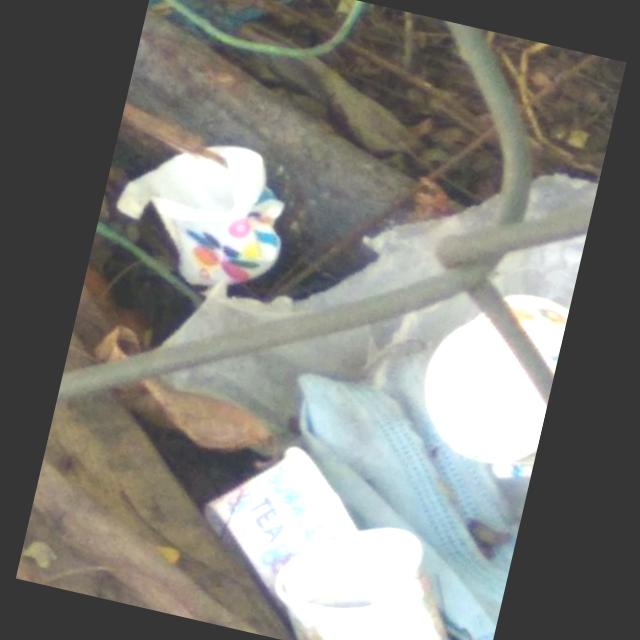trash: (140, 87, 599, 490), (100, 120, 301, 303), (186, 428, 373, 614), (260, 502, 474, 640)
